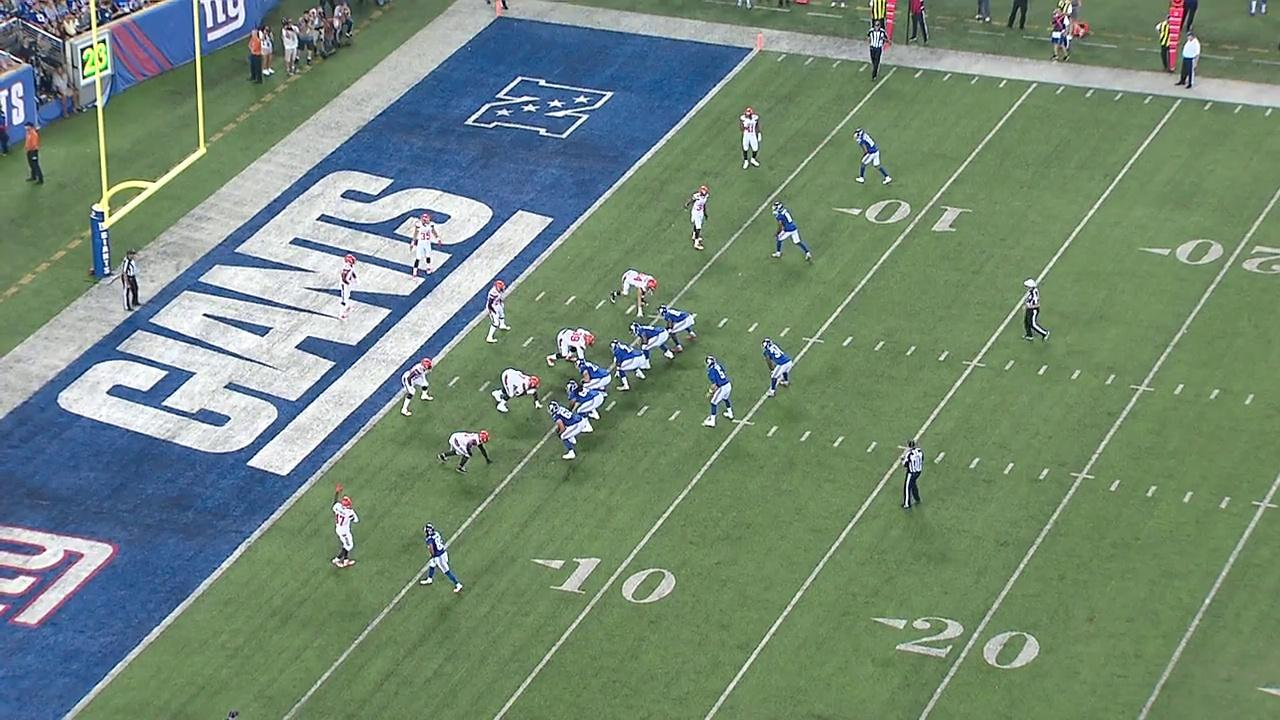marker: (1167, 0, 1184, 74), (884, 0, 897, 45)
number: (895, 610, 1042, 672), (548, 551, 679, 608), (1176, 235, 1280, 278), (864, 198, 972, 234)
player: (754, 33, 766, 52), (494, 0, 503, 16)
